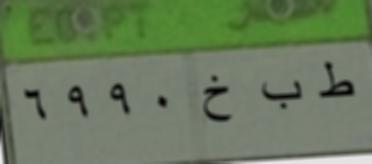0: (150, 90, 173, 114)
6: (22, 82, 50, 128)
9: (60, 80, 94, 127), (107, 78, 134, 122)
Taa: (314, 48, 358, 106)
baa: (255, 74, 306, 116)
khaa: (196, 75, 239, 126)
